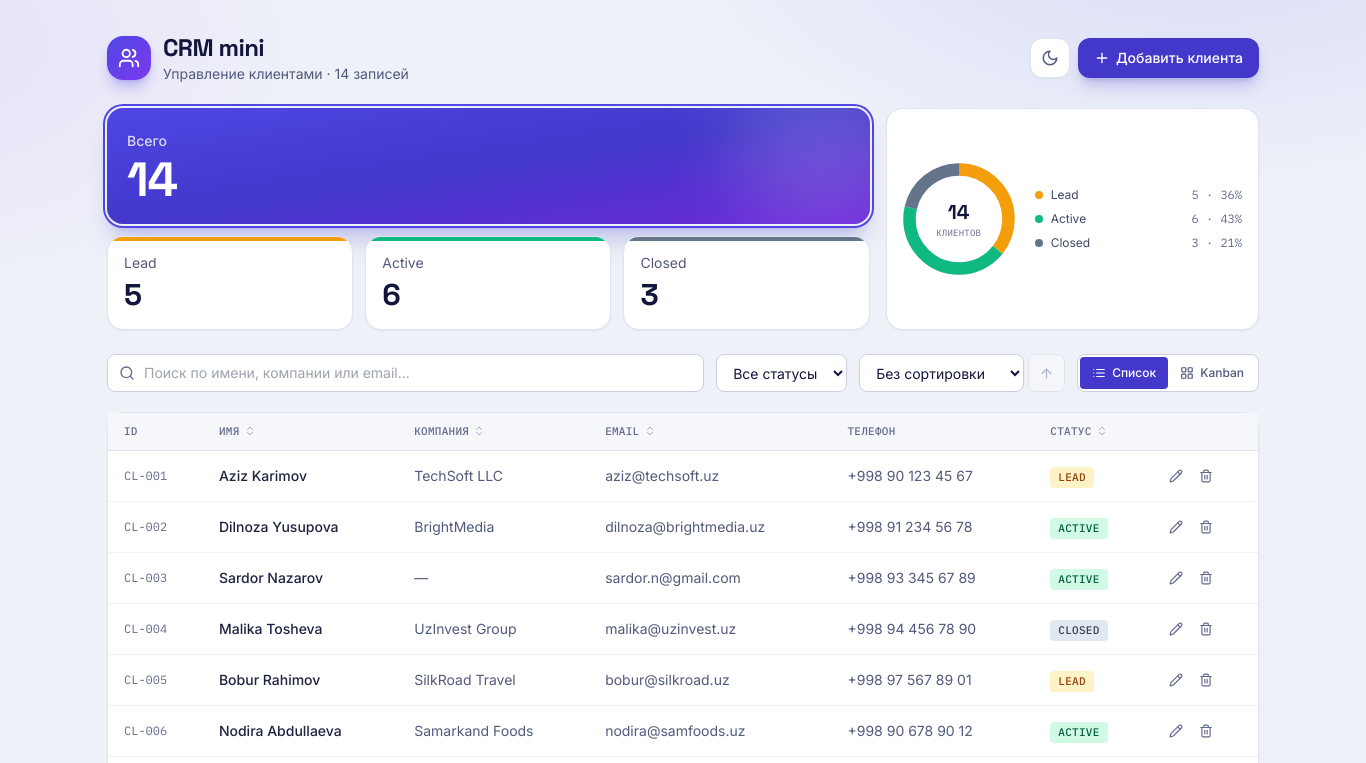
Test: kanban › opens the edit form from a card via its own button (keyboard accessible)
Click the button "Kanban" at (1212, 373), box [1168,357,1256,389]
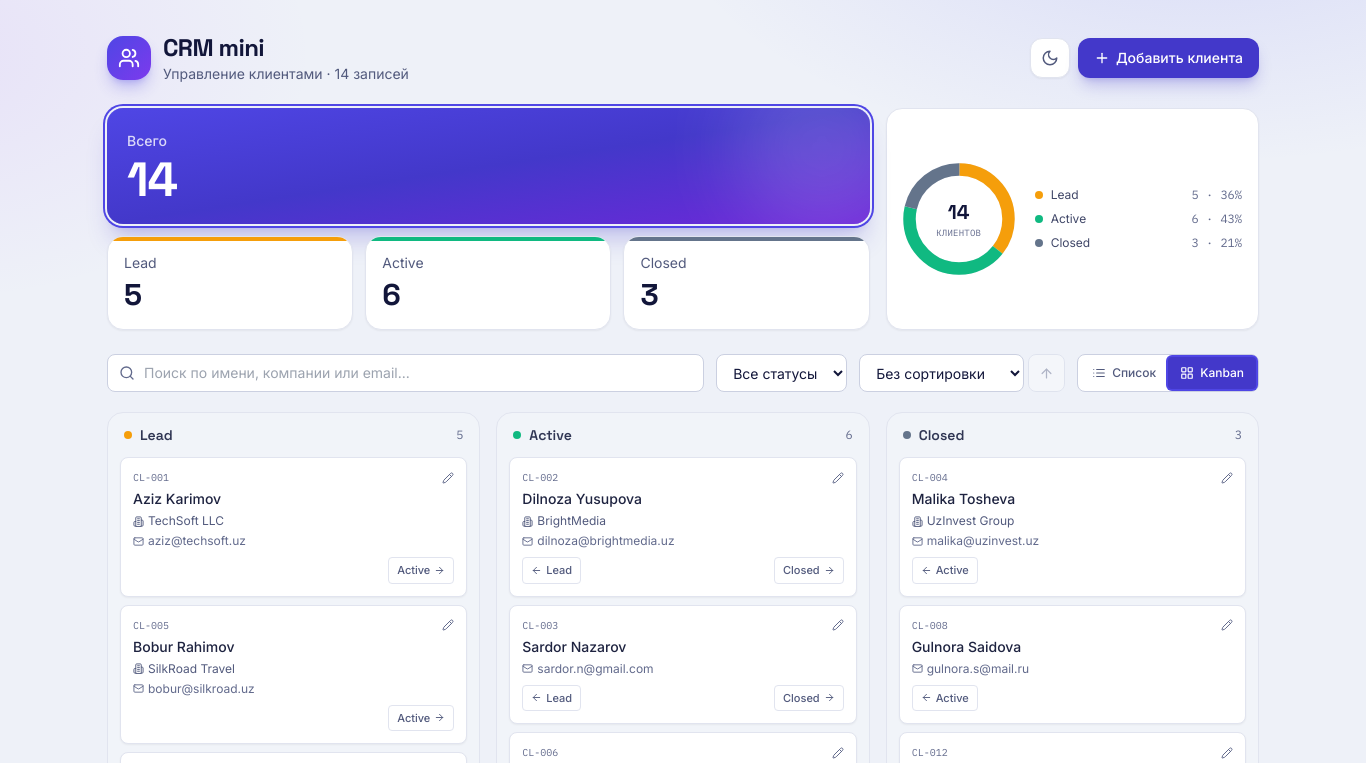
Click the button named "Редактировать Aziz Karimov" at (448, 478), box [438,468,458,488]
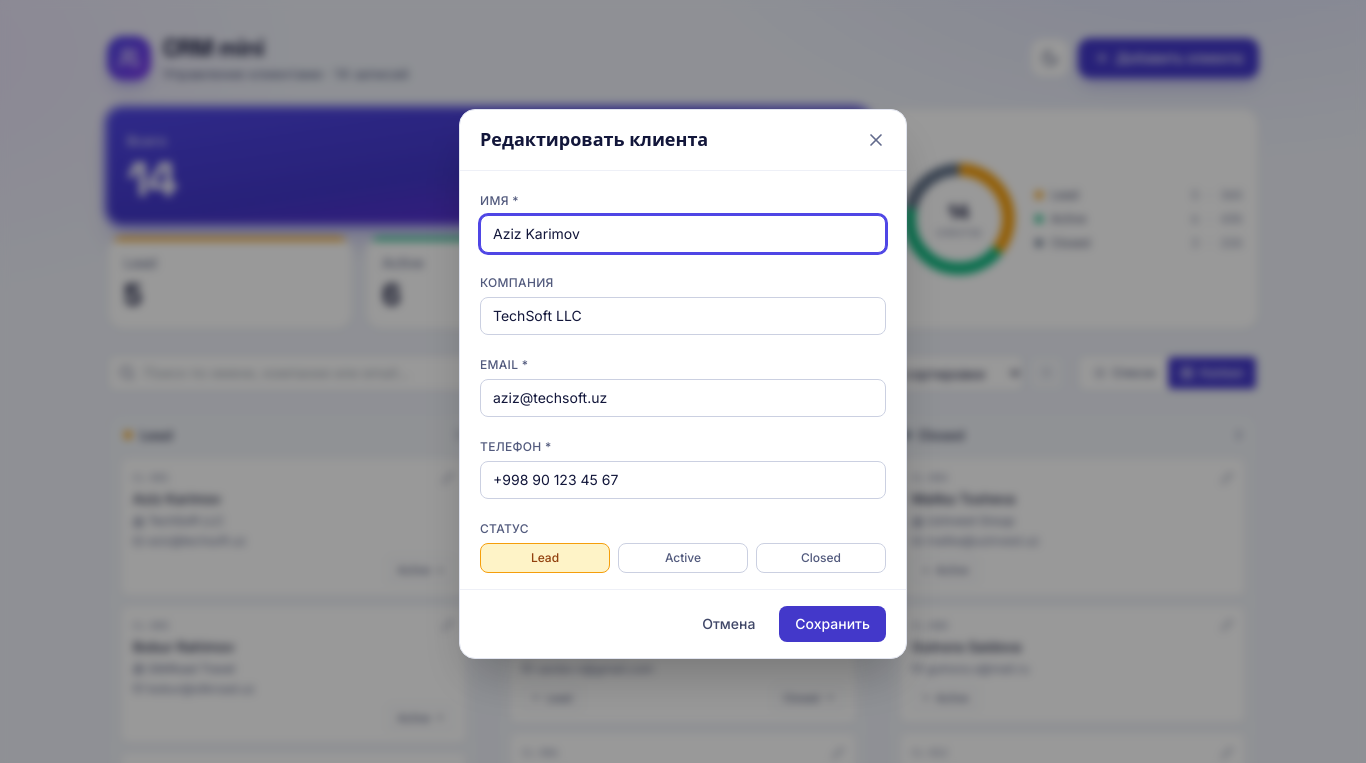
Now the field labelled "Имя *" holds "Aziz Karimov", box [480,215,886,253]
Press Escape
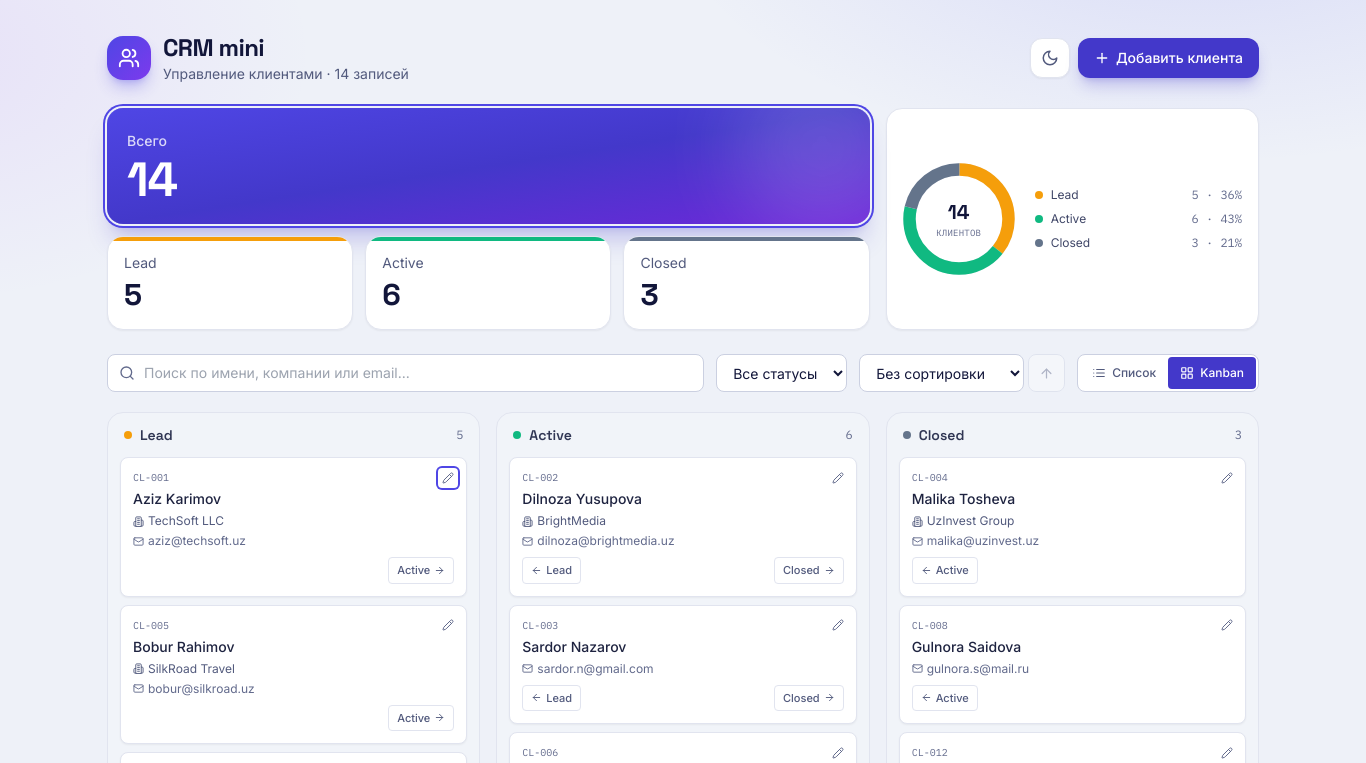
Now the dialog is gone
